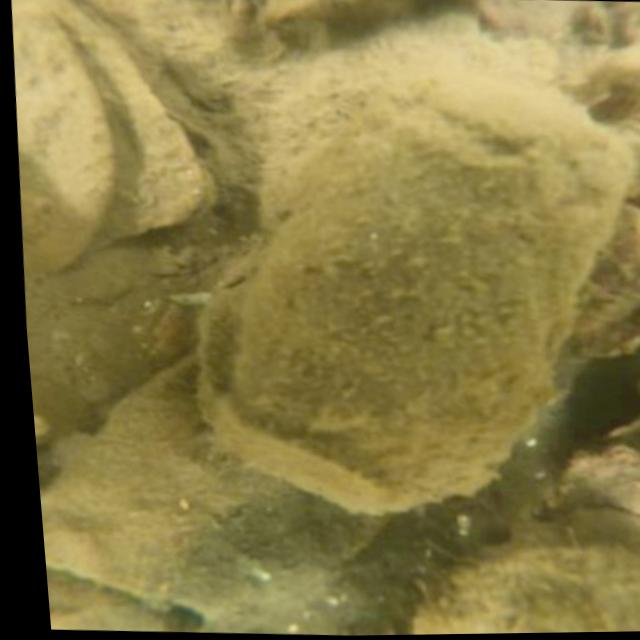Oyster-Closed: (186, 62, 640, 510)
Oyster-Indeterminate: (39, 355, 385, 625), (40, 0, 211, 247), (11, 0, 115, 270)
